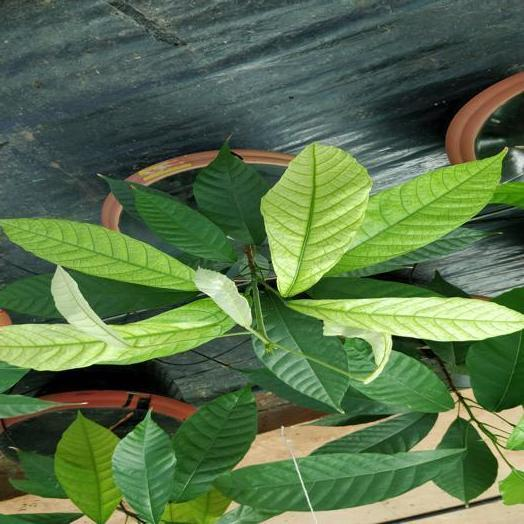Healthy Leaf: (253, 293, 348, 410), (298, 451, 462, 511), (171, 389, 256, 500), (345, 341, 457, 416), (131, 185, 235, 260), (193, 143, 268, 243), (55, 412, 121, 523), (113, 412, 175, 523), (434, 419, 496, 503), (311, 413, 436, 454), (216, 460, 308, 511), (325, 318, 393, 386), (467, 331, 523, 410), (10, 451, 66, 497), (0, 394, 65, 418), (103, 176, 139, 219), (499, 469, 523, 504)
Iron: (332, 153, 504, 273), (0, 298, 233, 370), (261, 144, 371, 296), (0, 219, 196, 290), (287, 298, 523, 340), (51, 266, 127, 346), (196, 268, 250, 327)
